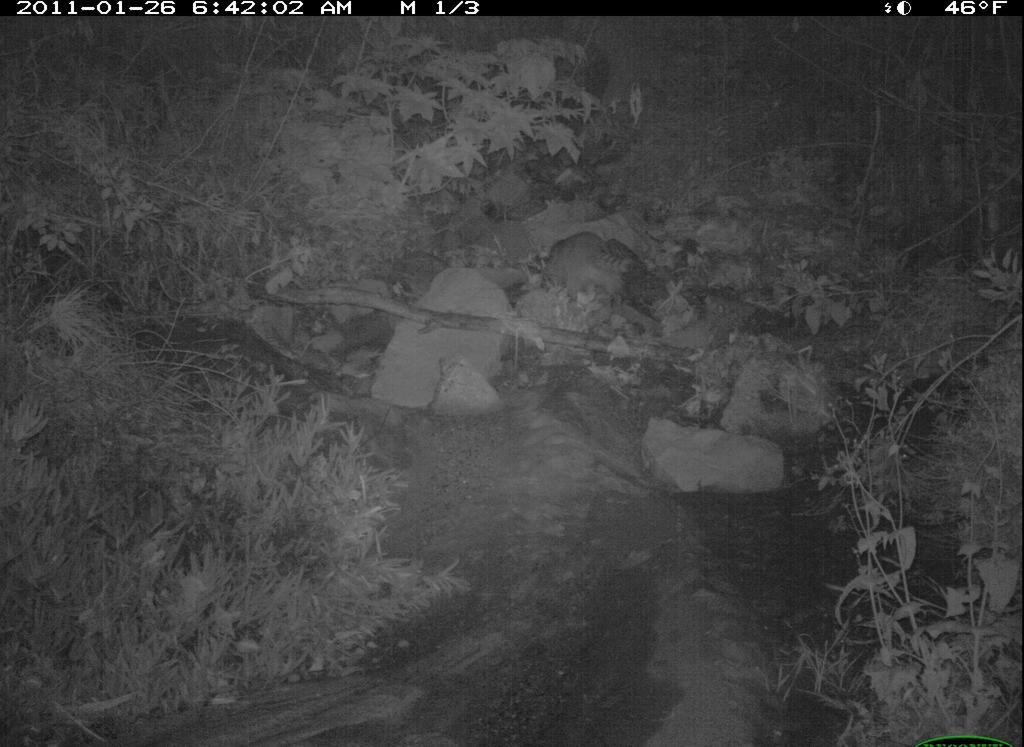raccoon: (530, 228, 651, 308)
